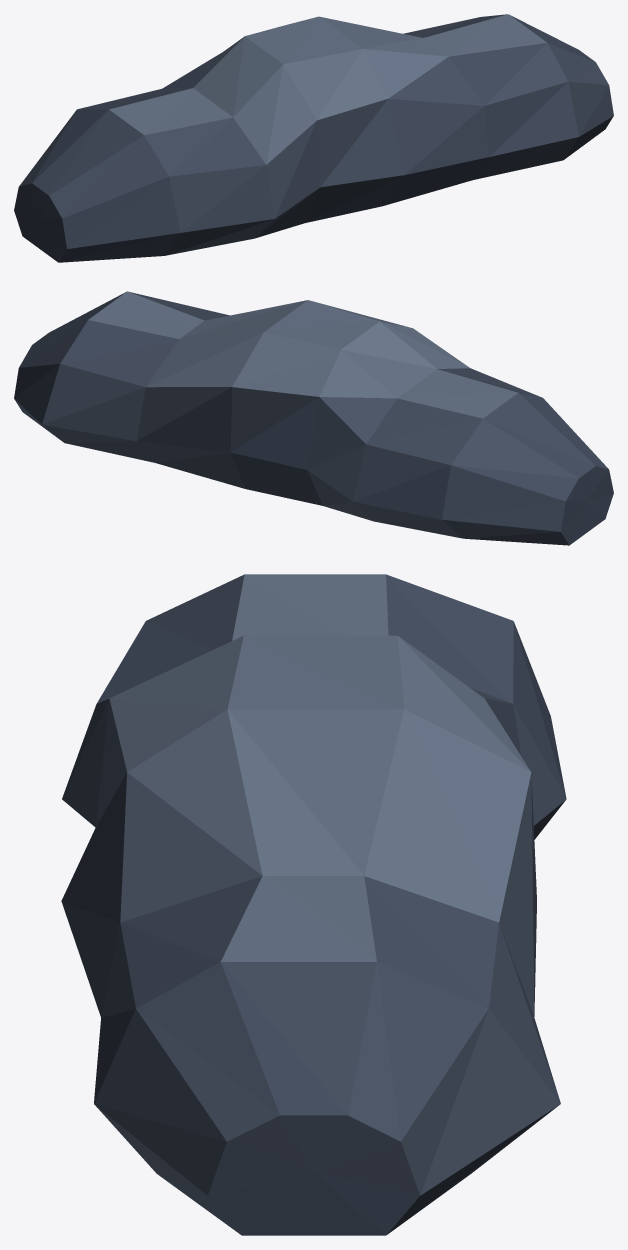
Rendered from ledge_z1_rock_short.glb.
3 views of the same model, one above another, from view 1: azimuth 30°, elevation 25°; view 2: azimuth 150°, elevation 25°; view 3: azimuth 270°, elevation 25° (orthographic). The views are drawn at different scales.
Parts seen in each view (by area): view 1: ledge_z1_rock_short; view 2: ledge_z1_rock_short; view 3: ledge_z1_rock_short.
Boxes of the visible parts, x1,y1,x2,y2 form: ledge_z1_rock_short: (14,14,613,262); ledge_z1_rock_short: (14,291,613,545); ledge_z1_rock_short: (61,574,566,1235).
Size of the model in its own units: 4 by 1 by 1.6.
